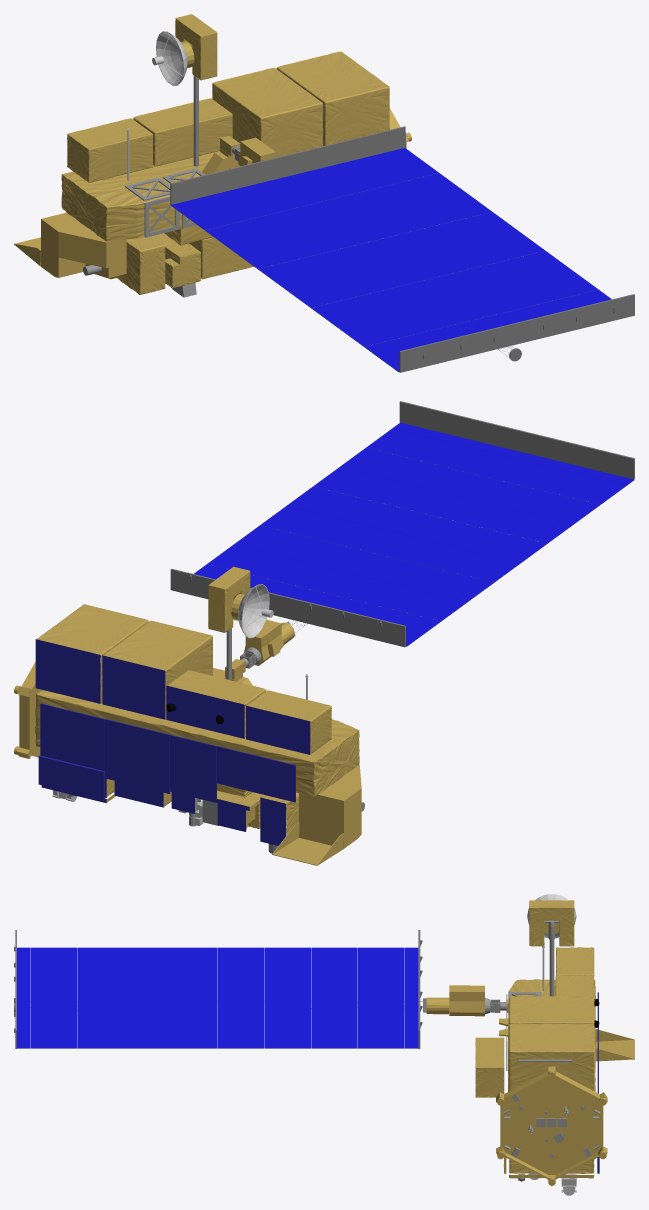
Rendered from terra.glb.
3 views of the same model, one above another, from view 1: azimuth 30°, elevation 25°; view 2: azimuth 150°, elevation 25°; view 3: azimuth 270°, elevation 25° (orthographic). The views are drawn at different scales.
Parts seen in each view (by area): view 1: Terra_vFINAL [Layer17], Terra_vFINAL [Layer16], Terra_vFINAL [Layer1], Terra_vFINAL [Layer13], Terra_vFINAL [Layer18], Terra_vFINAL [Layer2], Terra_vFINAL [Layer11], Terra_vFINAL [Layer12], Terra_vFINAL [Layer19], Terra_vFINAL [Layer3], Terra_vFINAL [Layer9], Terra_vFINAL [Layer4] (+2 smaller); view 2: Terra_vFINAL [Layer17], Terra_vFINAL [Layer15], Terra_vFINAL [Layer16], Terra_vFINAL [Layer18], Terra_vFINAL [Layer1], Terra_vFINAL [Layer13], Terra_vFINAL [Layer2], Terra_vFINAL [Layer11], Terra_vFINAL [Layer9], Terra_vFINAL [Layer12], Terra_vFINAL [Layer20], Terra_vFINAL [Layer19]; view 3: Terra_vFINAL [Layer17], Terra_vFINAL [Layer18], Terra_vFINAL [Layer2], Terra_vFINAL [Layer13], Terra_vFINAL [Layer19], Terra_vFINAL [Layer10], Terra_vFINAL [Layer9], Terra_vFINAL [Layer16], Terra_vFINAL [Layer11], Terra_vFINAL [Layer1], Terra_vFINAL [Layer12], Terra_vFINAL [Layer21].
Part boxes in pixels (<box>): Terra_vFINAL [Layer17]: <box>171,148,611,371</box>; Terra_vFINAL [Layer16]: <box>170,126,634,372</box>; Terra_vFINAL [Layer1]: <box>61,151,219,245</box>; Terra_vFINAL [Layer13]: <box>212,67,322,157</box>; Terra_vFINAL [Layer18]: <box>14,41,411,279</box>; Terra_vFINAL [Layer2]: <box>276,51,389,145</box>; Terra_vFINAL [Layer11]: <box>67,118,152,182</box>; Terra_vFINAL [Layer12]: <box>133,98,232,166</box>; Terra_vFINAL [Layer19]: <box>83,75,240,297</box>; Terra_vFINAL [Layer3]: <box>117,236,165,294</box>; Terra_vFINAL [Layer9]: <box>175,14,217,80</box>; Terra_vFINAL [Layer4]: <box>153,233,200,288</box>; Terra_vFINAL [Layer17]: <box>194,422,634,646</box>; Terra_vFINAL [Layer15]: <box>35,639,310,845</box>; Terra_vFINAL [Layer16]: <box>170,401,634,647</box>; Terra_vFINAL [Layer18]: <box>14,593,361,865</box>; Terra_vFINAL [Layer1]: <box>35,673,359,797</box>; Terra_vFINAL [Layer13]: <box>103,620,212,718</box>; Terra_vFINAL [Layer2]: <box>37,604,148,702</box>; Terra_vFINAL [Layer11]: <box>247,690,331,754</box>; Terra_vFINAL [Layer9]: <box>208,566,250,632</box>; Terra_vFINAL [Layer12]: <box>167,670,265,737</box>; Terra_vFINAL [Layer20]: <box>238,584,273,638</box>; Terra_vFINAL [Layer19]: <box>69,628,364,853</box>; Terra_vFINAL [Layer17]: <box>17,947,418,1048</box>; Terra_vFINAL [Layer18]: <box>426,920,634,1185</box>; Terra_vFINAL [Layer2]: <box>509,1024,594,1091</box>; Terra_vFINAL [Layer13]: <box>509,996,594,1025</box>; Terra_vFINAL [Layer19]: <box>485,920,600,1181</box>; Terra_vFINAL [Layer10]: <box>475,1037,504,1097</box>; Terra_vFINAL [Layer9]: <box>529,900,574,946</box>; Terra_vFINAL [Layer16]: <box>14,930,426,1048</box>; Terra_vFINAL [Layer11]: <box>556,947,594,995</box>; Terra_vFINAL [Layer1]: <box>508,979,595,1091</box>; Terra_vFINAL [Layer12]: <box>555,975,593,996</box>; Terra_vFINAL [Layer21]: <box>527,946,576,1195</box>.
Size of the model in its own units: 13622 by 10277 by 26054.
